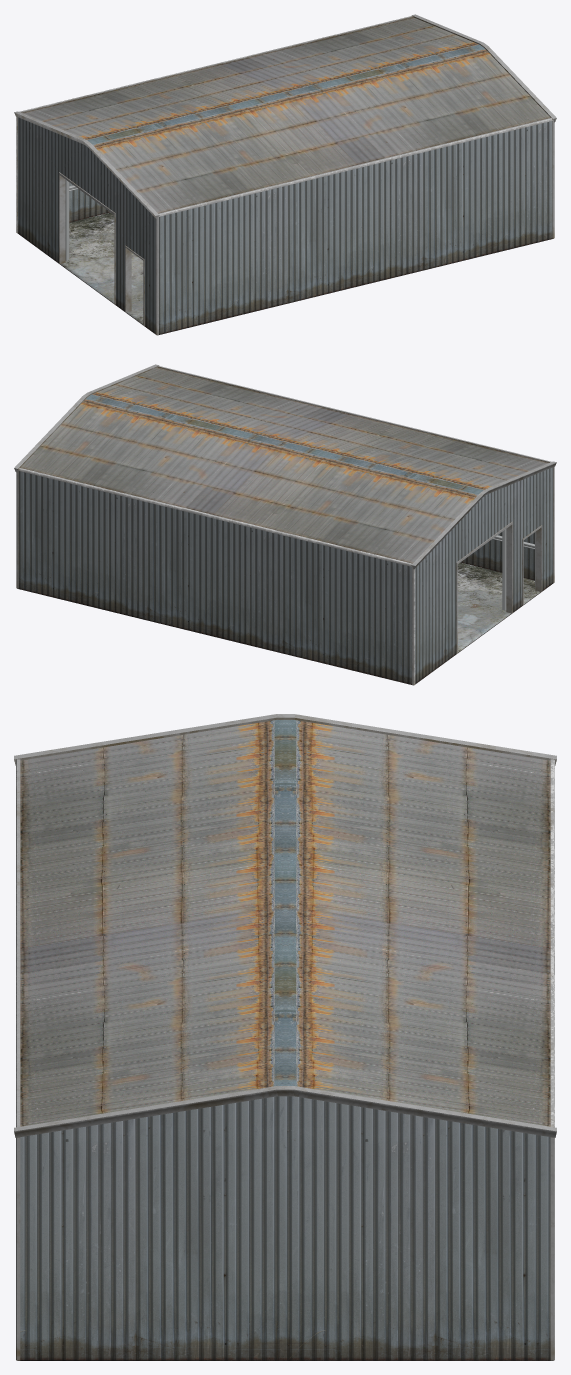
File: Garage01.FBX
3 views of the same model, one above another, from view 1: azimuth 30°, elevation 25°; view 2: azimuth 150°, elevation 25°; view 3: azimuth 270°, elevation 25° (orthographic). The views are drawn at different scales.
Parts seen in each view (by area): view 1: Garage01; view 2: Garage01; view 3: Garage01.
Boxes of the visible parts, left/top/right/bottom form: Garage01: left=14, top=14, right=556, bottom=335; Garage01: left=14, top=364, right=556, bottom=685; Garage01: left=14, top=714, right=556, bottom=1360.
Bounding box in the file's own units: 1294 × 439 × 790.
